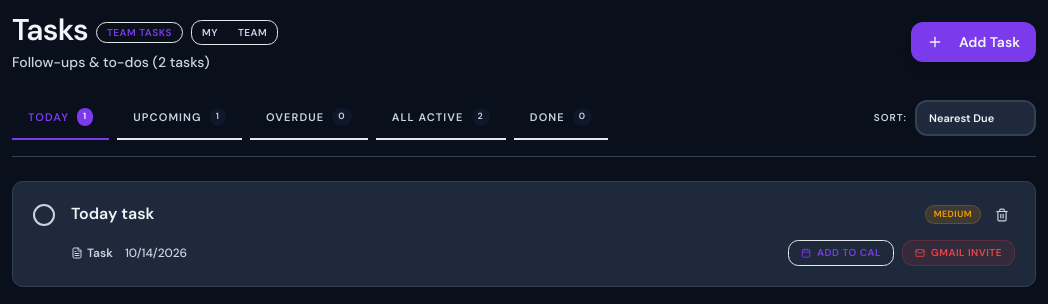
Test: CRMTasks › filters tasks by "upcoming" tab
Click the text "Upcoming": point(168, 117) [133,108,202,125]
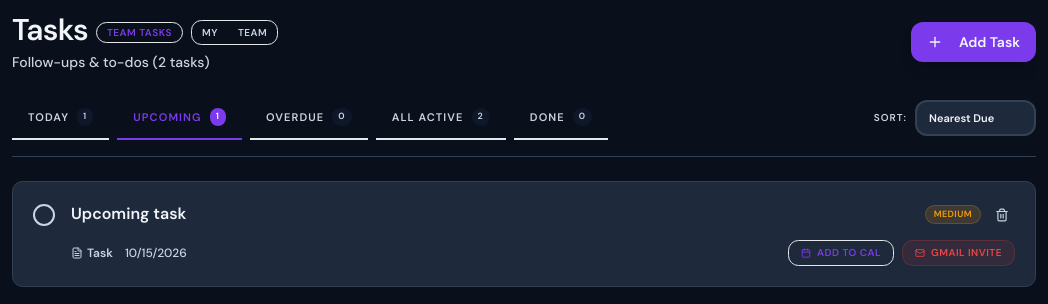
Expected: the heading "Upcoming task" is shown, [71,202,186,226]
Expected: the heading "Today task" is gone
